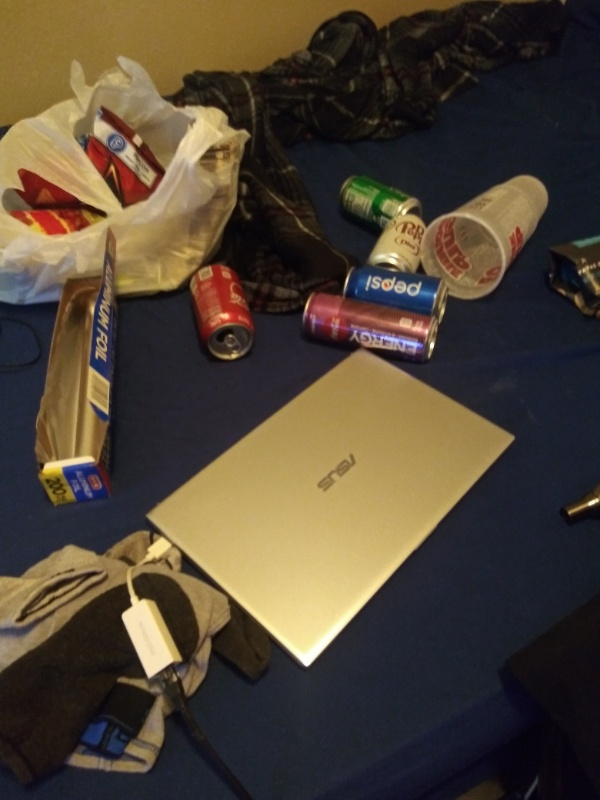can: (295, 288, 440, 364), (187, 260, 258, 363), (339, 263, 451, 324), (334, 172, 424, 227), (367, 212, 428, 279)
